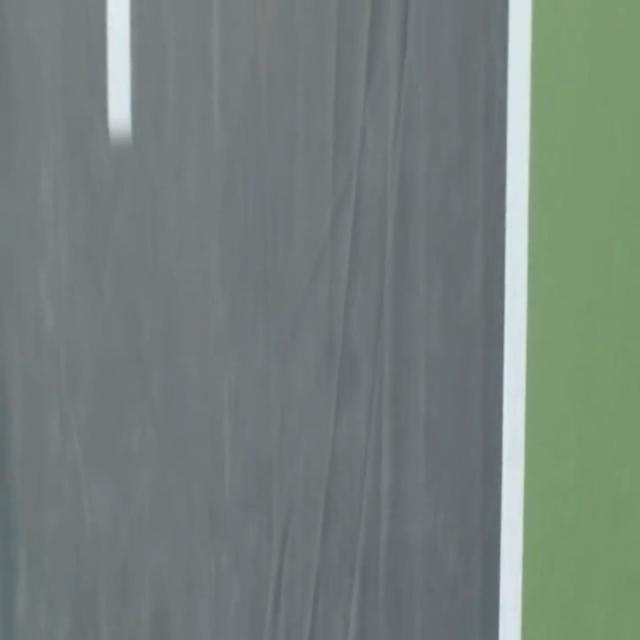center: (106, 0, 132, 145)
right: (499, 0, 532, 639)
